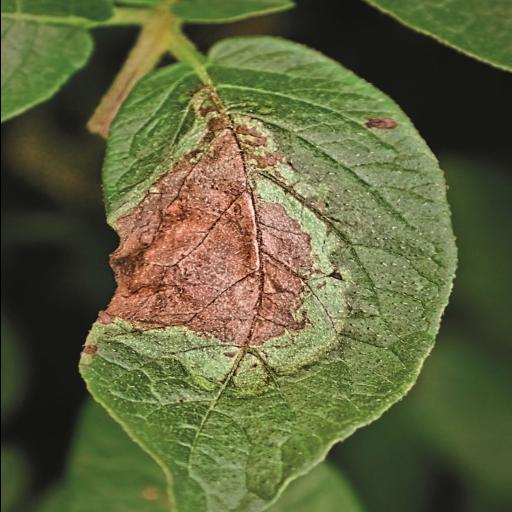Late Blight: (71, 30, 463, 512)
